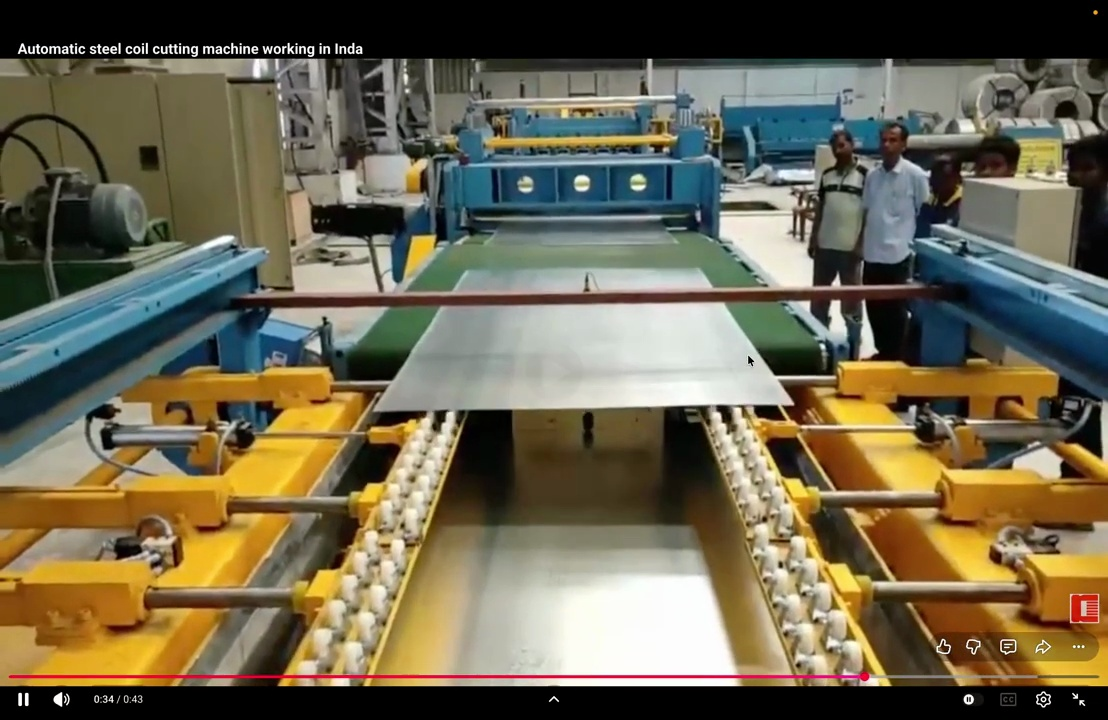steel plate: (376, 303, 791, 411), (489, 219, 675, 245)
